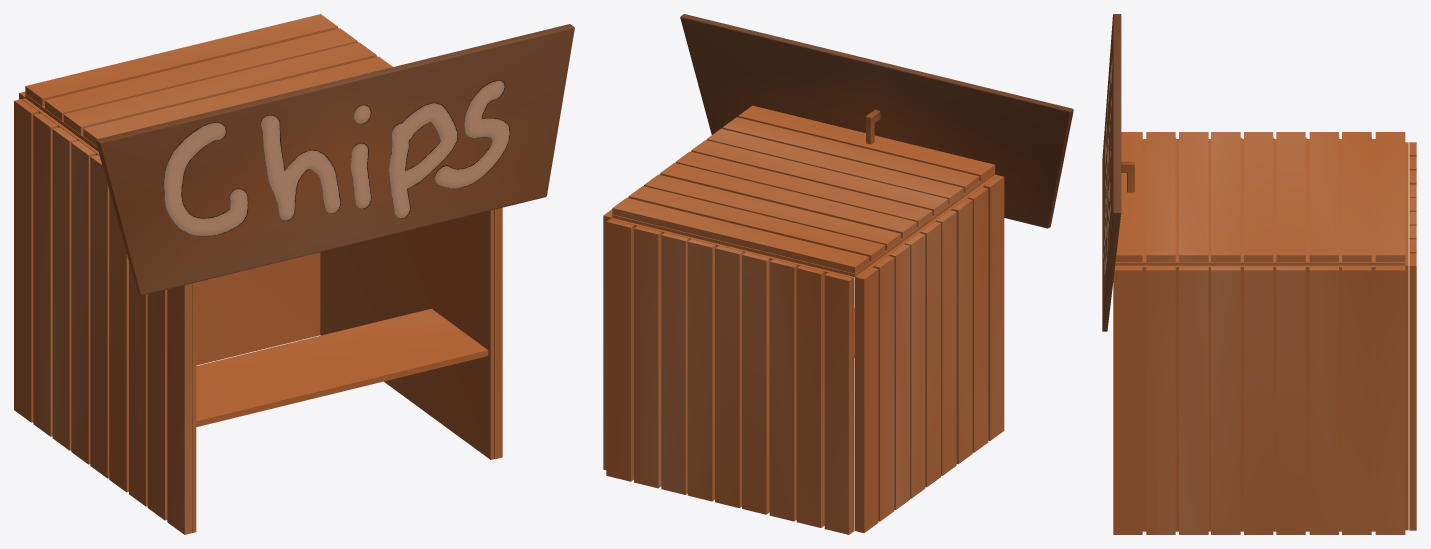
Rendered from BeachstandChips.fbx.
The picture shows the model from 3 angles, left to right: view 1: azimuth 30°, elevation 25°; view 2: azimuth 150°, elevation 25°; view 3: azimuth 270°, elevation 25°; orthographic projection. The views are drawn at different scales.
Visible parts, largest first — view 1: BeachStand; view 2: BeachStand; view 3: BeachStand.
Part boxes in pixels (left/top/right/bottom): BeachStand: left=14, top=14, right=574, bottom=534; BeachStand: left=603, top=14, right=1073, bottom=534; BeachStand: left=1102, top=14, right=1416, bottom=534.
Size of the model in its own units: 15.95 by 13.23 by 10.67.
